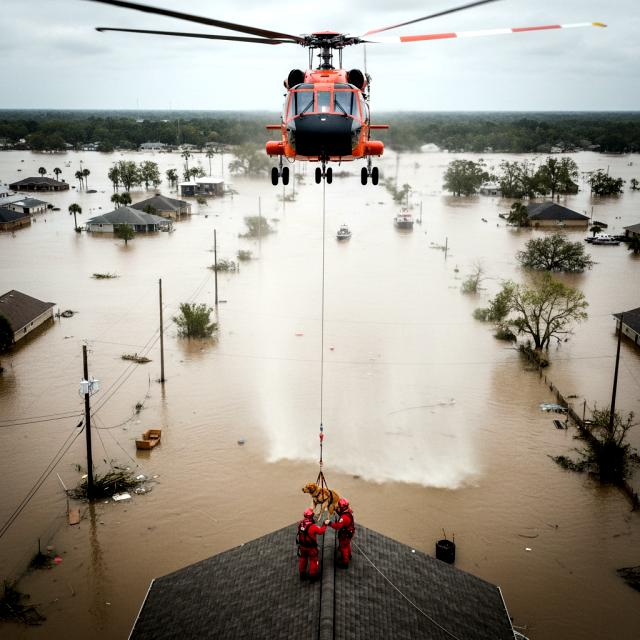dog: (302, 482, 346, 522)
rescuer: (290, 502, 332, 589), (333, 496, 363, 572)
